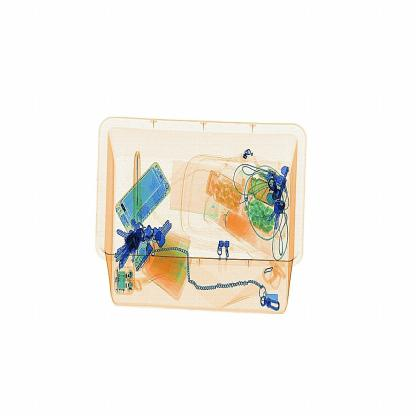pliers: (126, 144, 152, 236)
